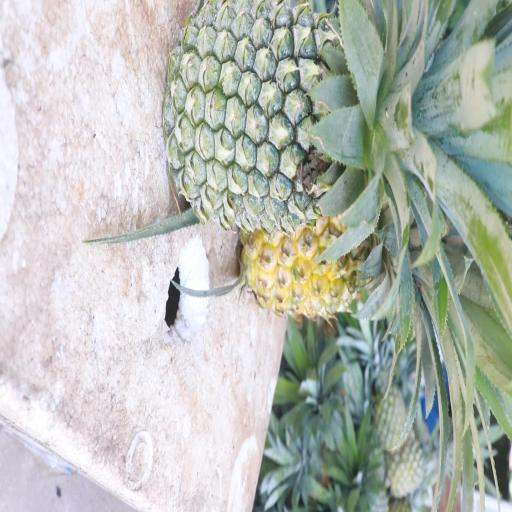Pineapple - v8 v1: (244, 217, 497, 404)
